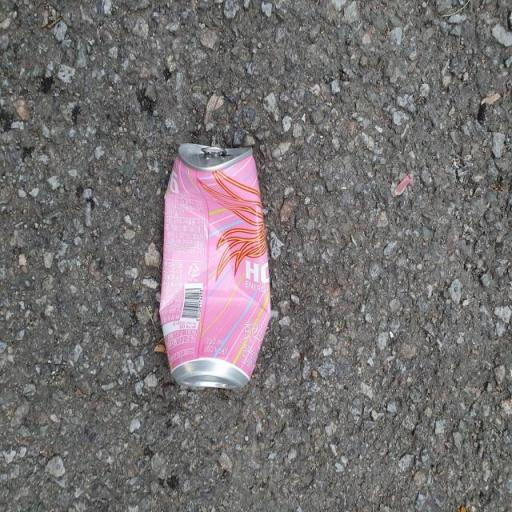metal: (117, 112, 286, 392)
